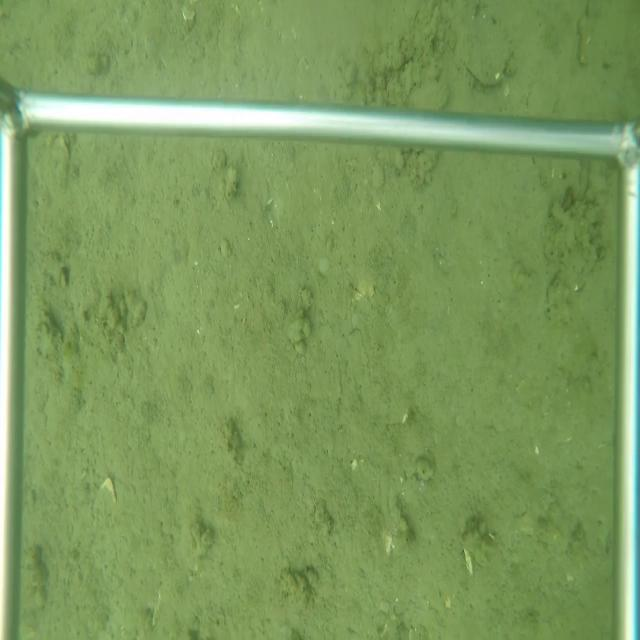Oyster-Closed: (455, 14, 517, 96)
